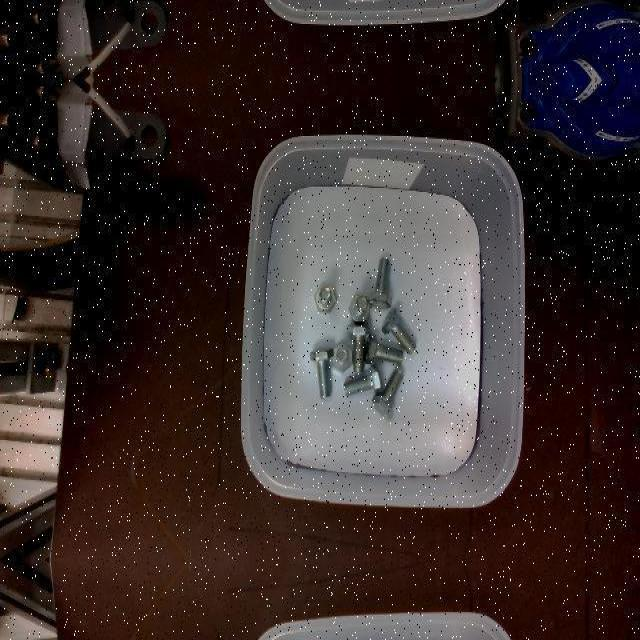screw: (382, 306, 417, 352), (373, 368, 404, 418), (309, 347, 334, 397), (346, 322, 370, 372), (343, 365, 382, 395), (366, 334, 403, 364), (370, 258, 392, 308), (314, 284, 337, 312), (332, 340, 352, 372), (348, 293, 370, 319)
